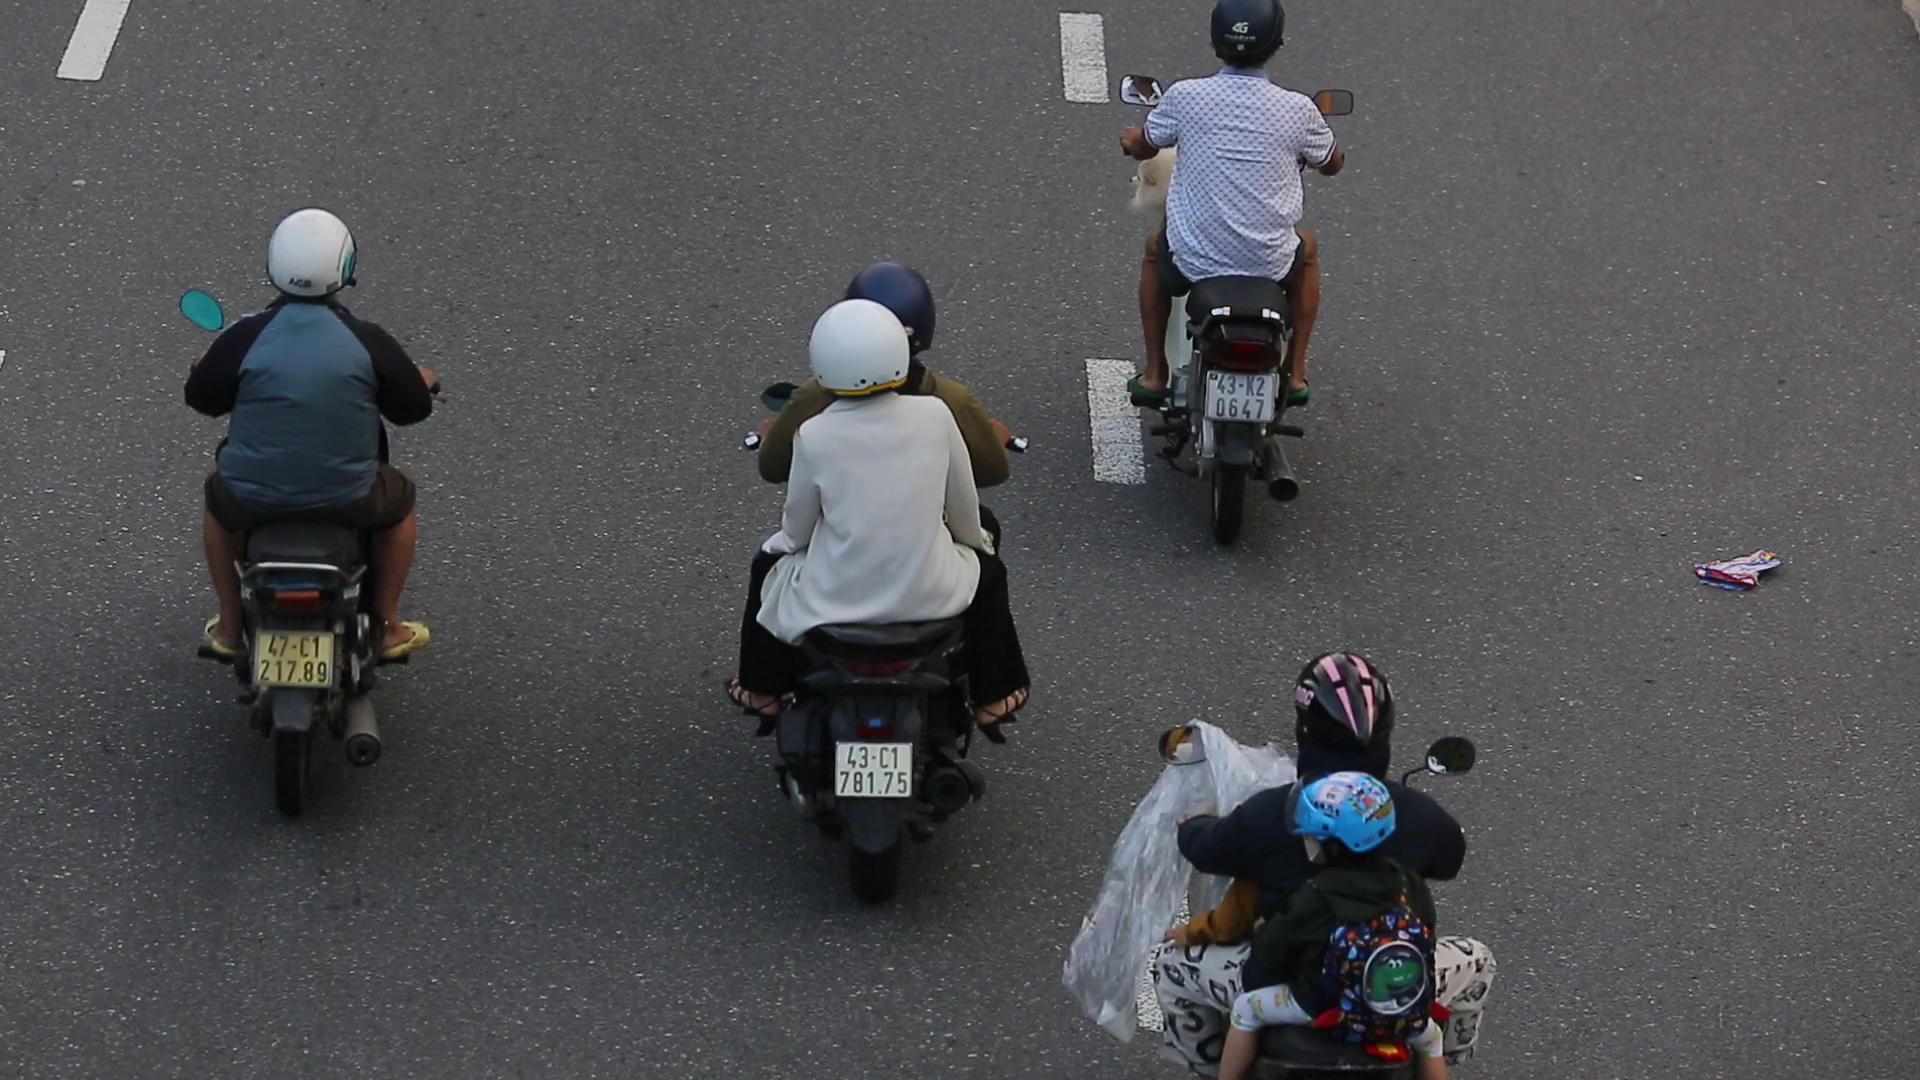motobike: (721, 251, 1048, 920), (164, 194, 447, 827), (1112, 0, 1373, 562)
